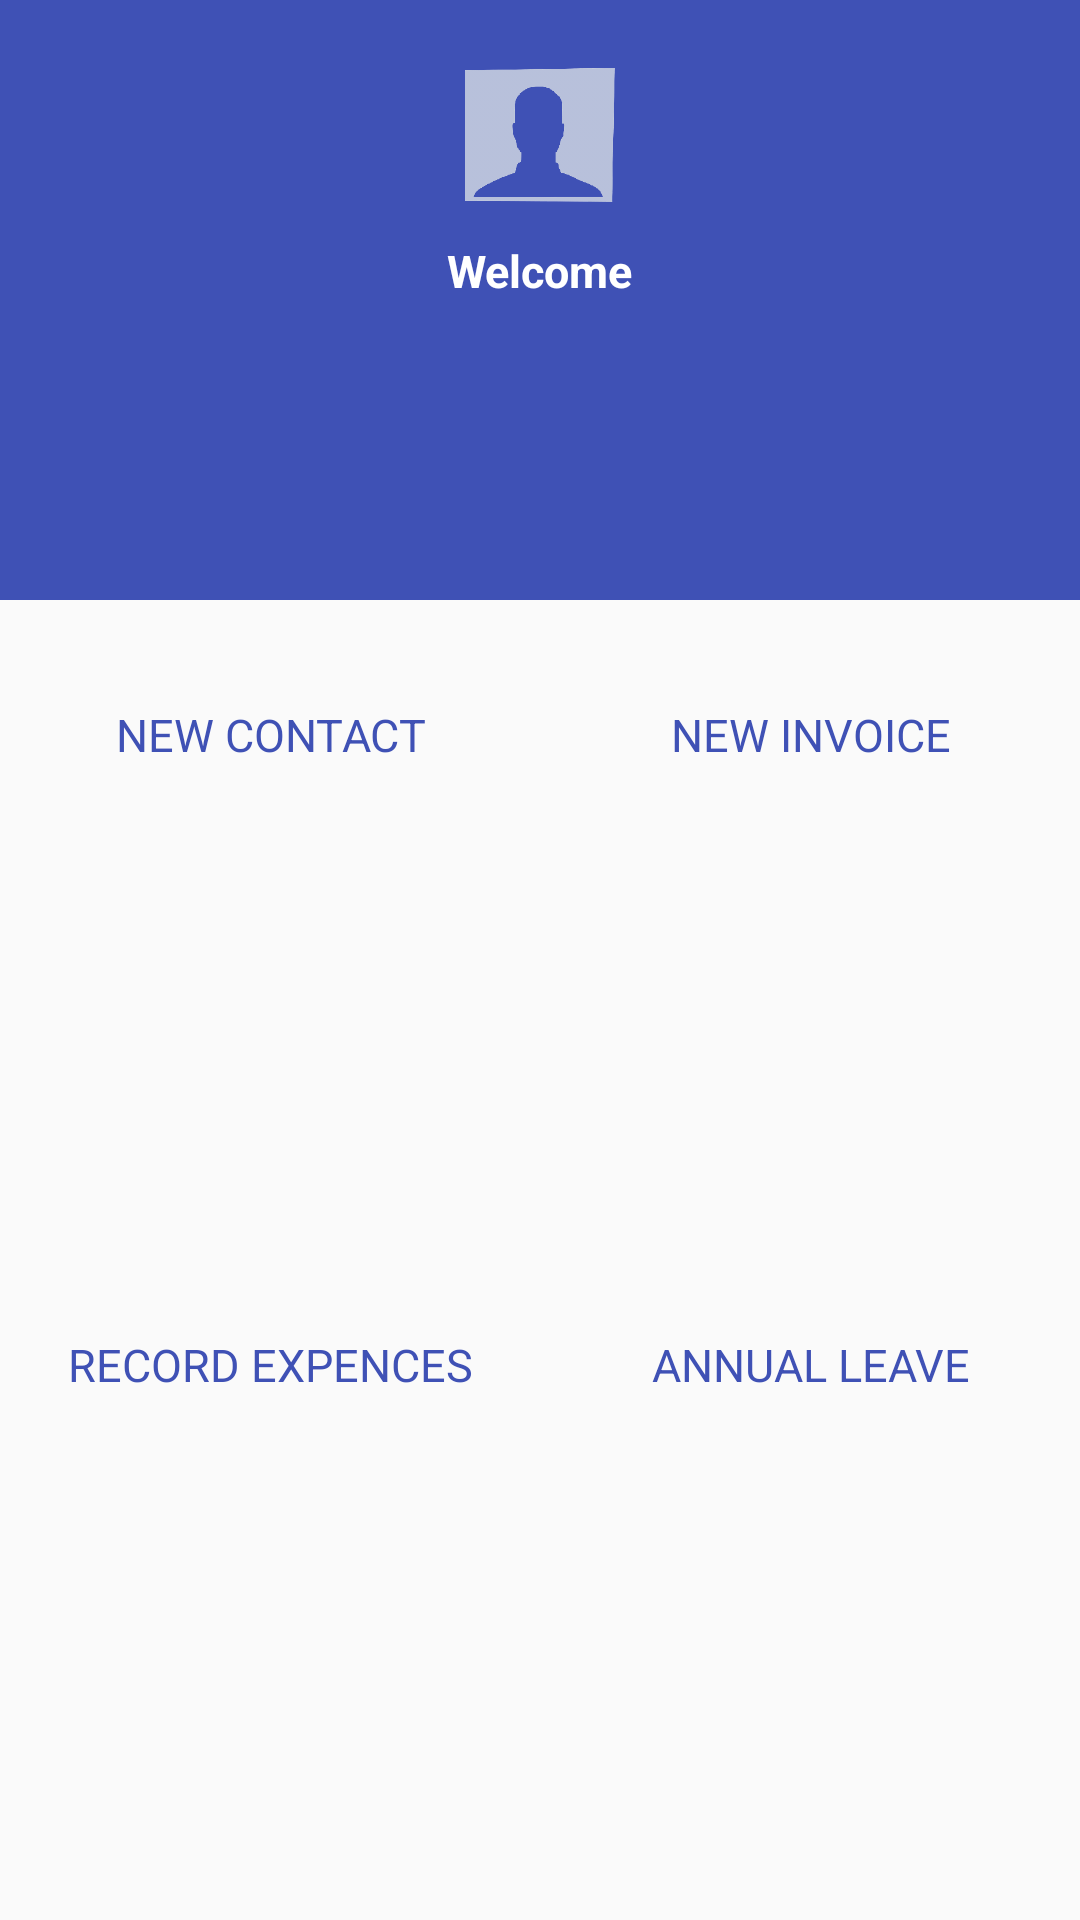

Icons on this 1080px x 1920px Android screen, each with its box as (x1,y1,x2,y2):
avtar: (465,68,615,202)
